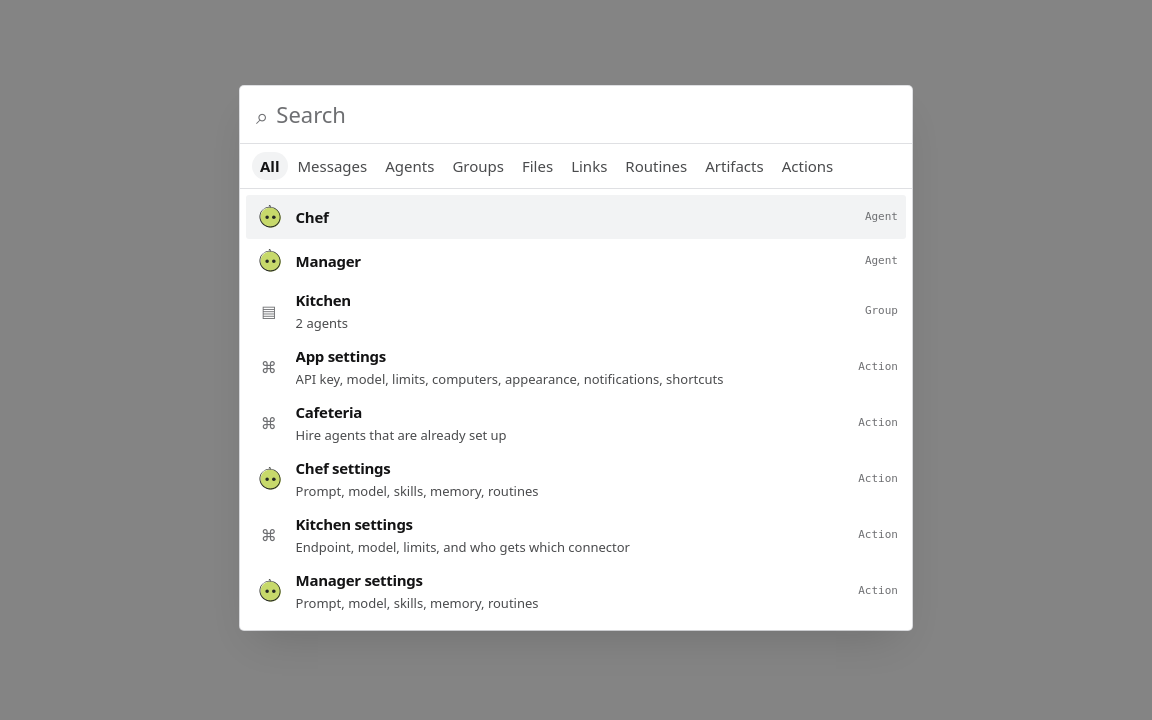
Test: Search › shows only one kind once a tab is chosen
The image size is (1152, 720).
Click the tab "Files" at (538, 166), box [514,152,561,180]
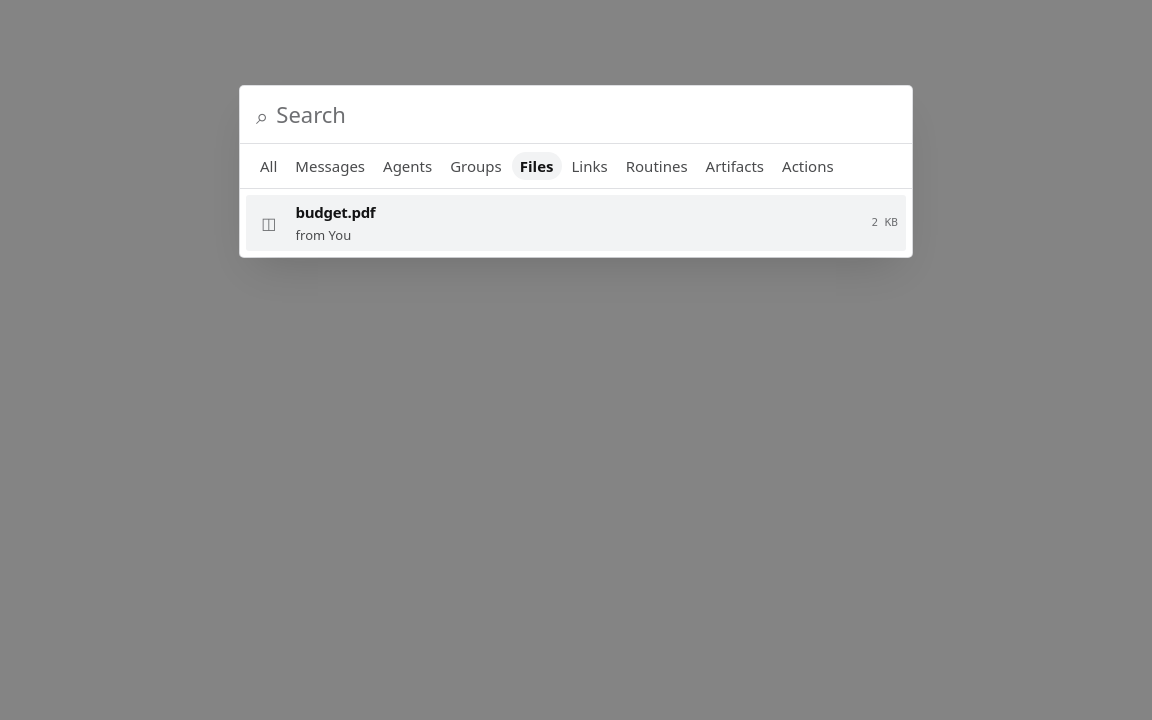
Now the text "budget.pdf" is shown, box [296,202,375,222]
Now the button "Manager" is gone
Click the tab "Agents" at (408, 166), box [375,152,440,180]
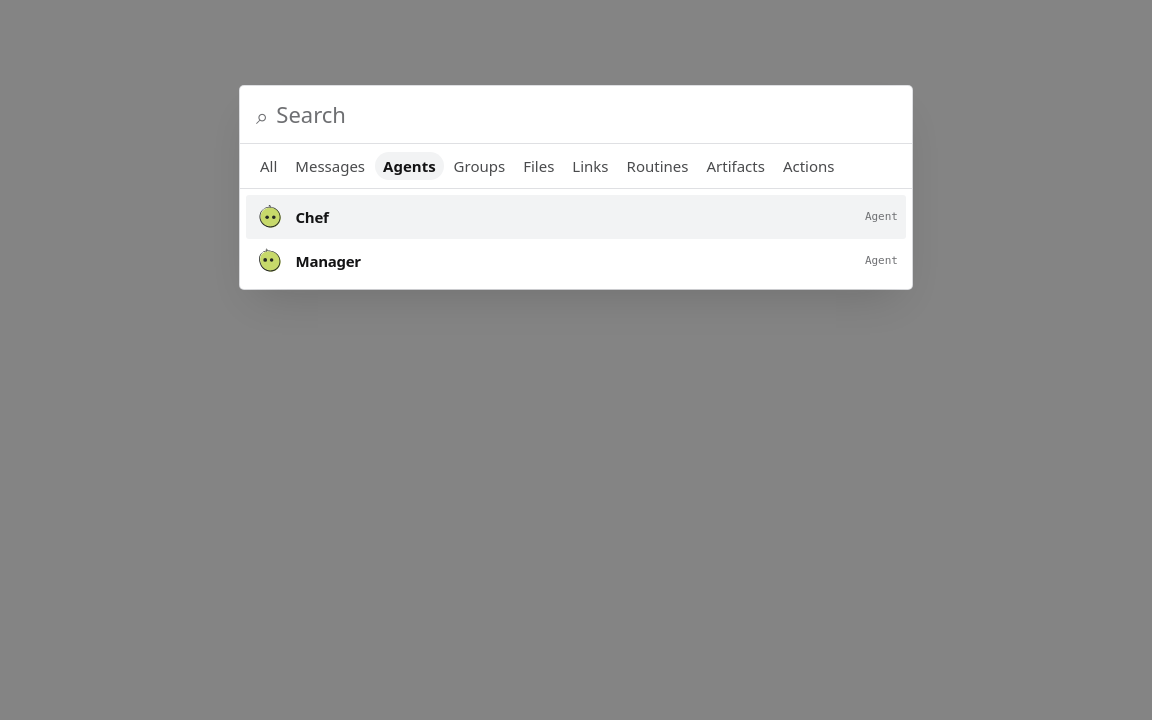
Now the text "Manager" is shown, box [296,251,361,271]
Now the button "budget.pdf" is gone
